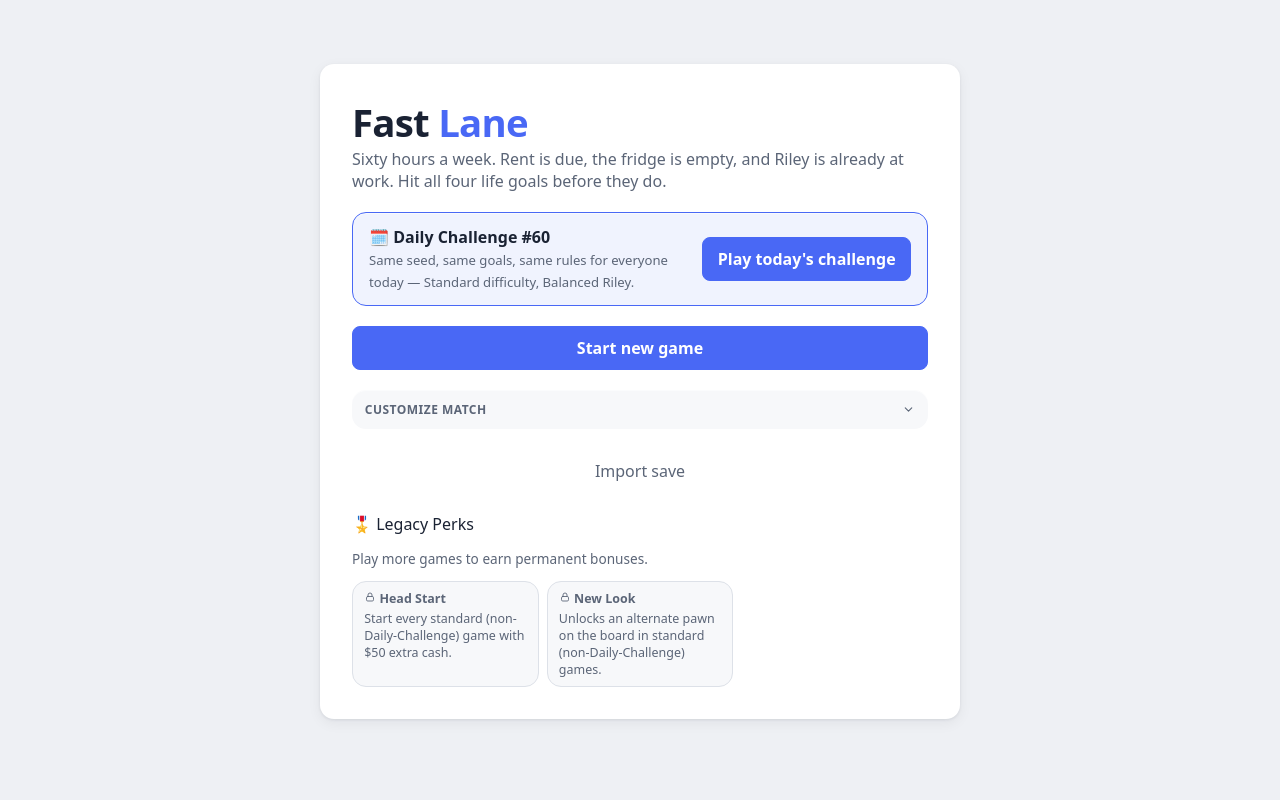
App › shows the start screen and starts a game
This screenshot has width=1280, height=800.
Click the button "Start new game": [640, 348] box [352,326,928,370]
(page scrolled)
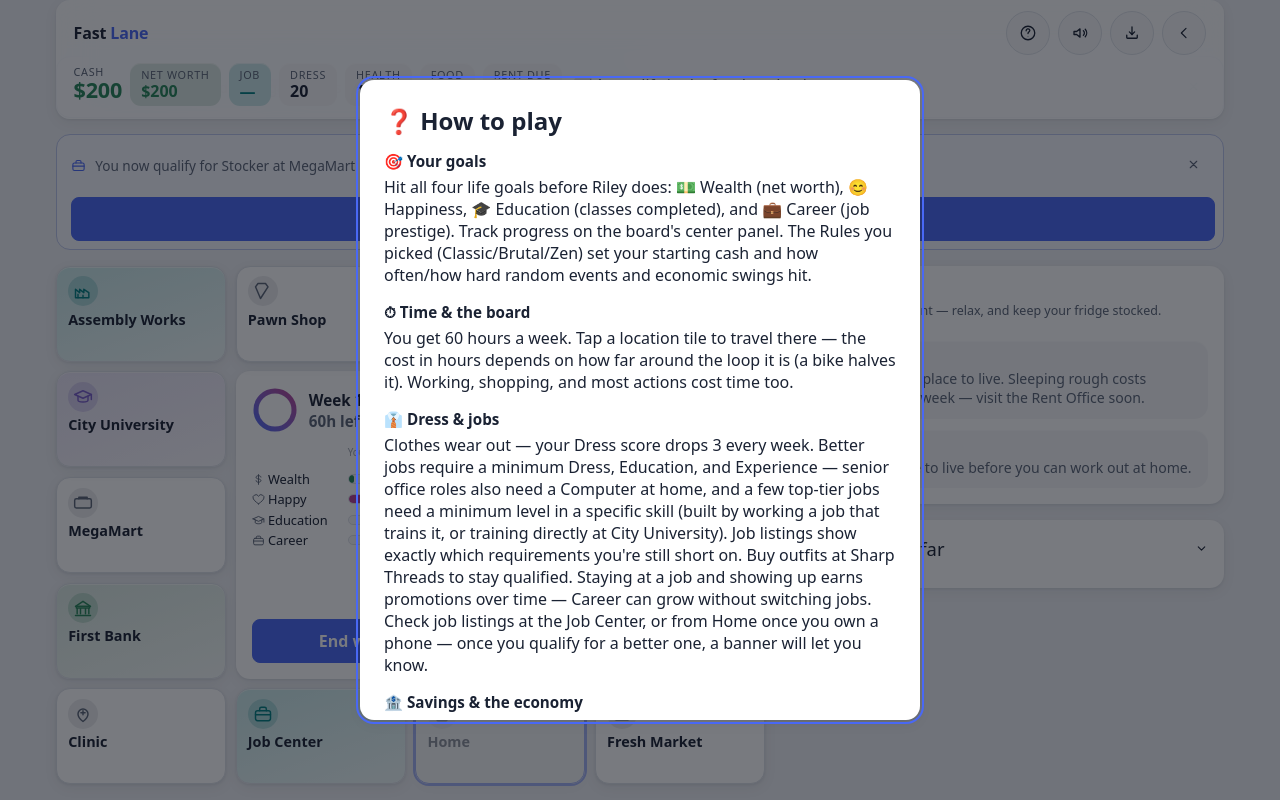
Result: the heading "Week 1" is shown at [309,390,366,410]
Result: the text "Job Center" is shown at [248,732,323,751]
